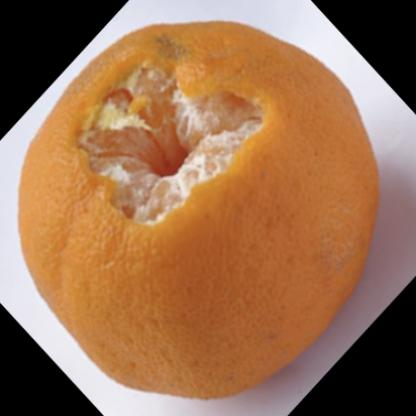fresh: (19, 21, 375, 395)
